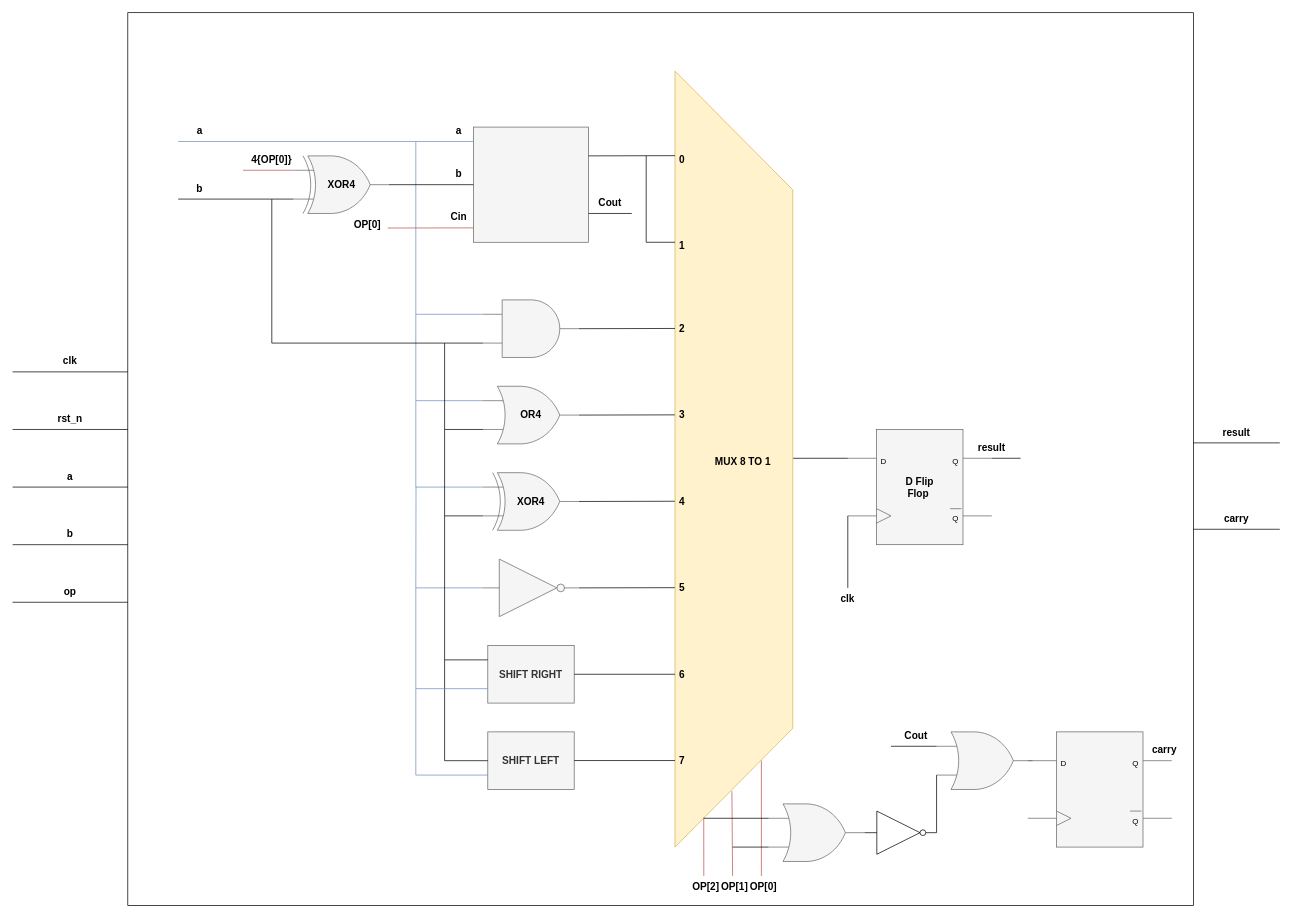
Some shapes in this 1293 by 918 pixel diagram are drawn without their labels. Here are the shapes that lost their labels. From the top down, the centre of each, then its label:
[531,184]: CLA 4-bit Adder
[530,328]: AND4
[530,587]: NOT4
